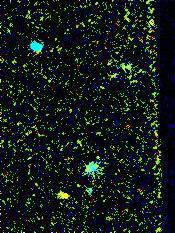star: (49, 181, 79, 211)
